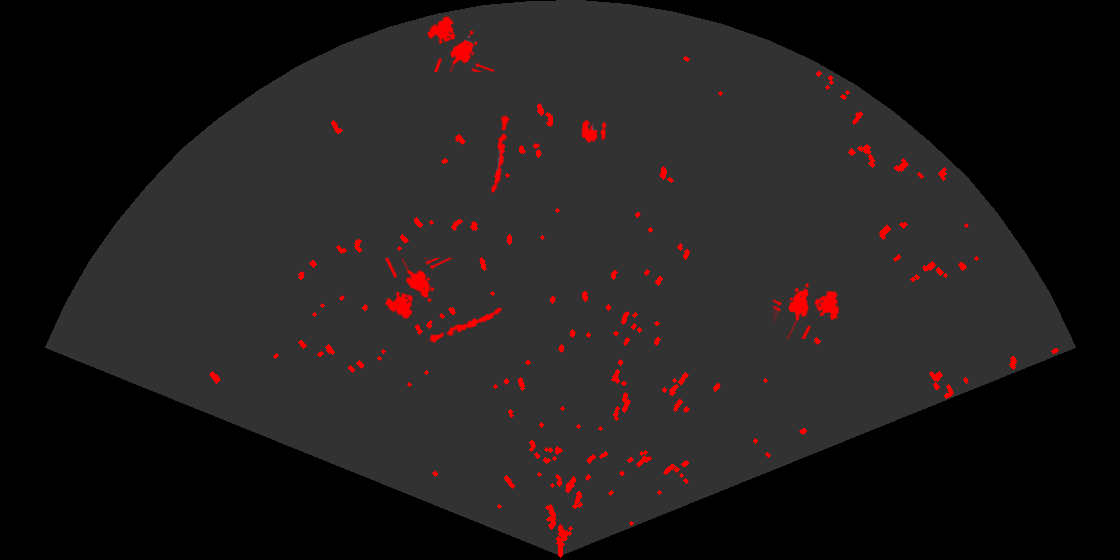ball: (580, 118, 608, 144)
cage: (383, 258, 452, 320), (773, 281, 841, 339), (425, 15, 494, 72)
chain: (425, 306, 504, 345), (490, 114, 511, 195)
